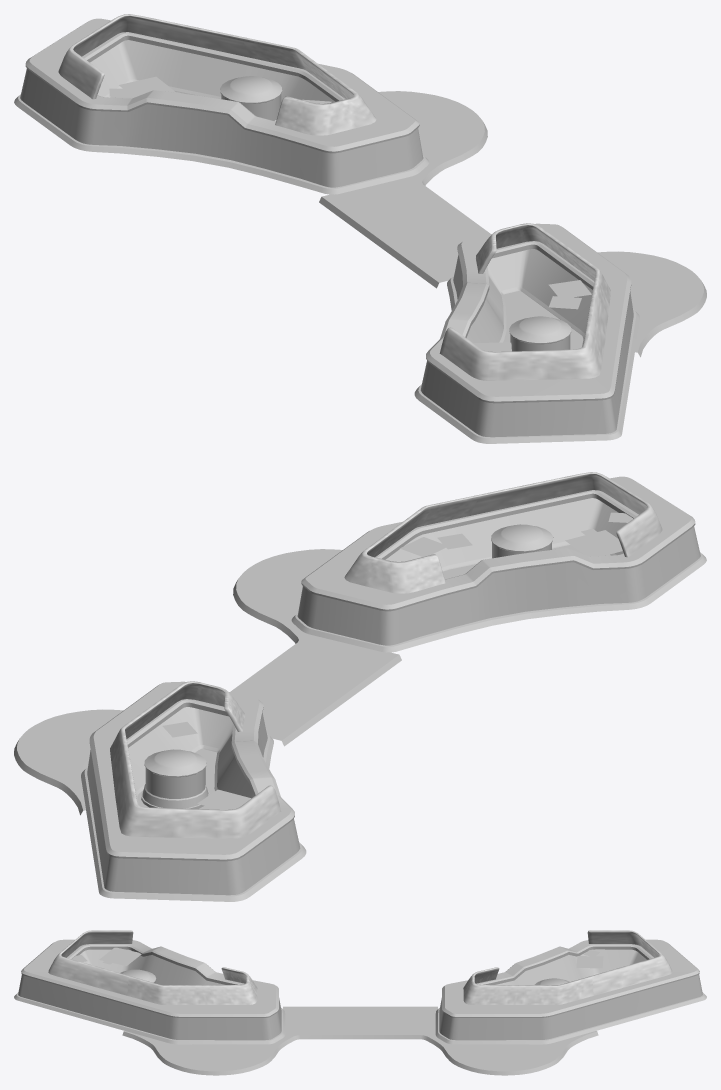
The model's file is pref_sm_beach_techcenter_floor01_lv3.fbx.
3 views of the same model, one above another, from view 1: azimuth 30°, elevation 25°; view 2: azimuth 150°, elevation 25°; view 3: azimuth 270°, elevation 25° (orthographic). The views are drawn at different scales.
Parts seen in each view (by area): view 1: sm_beach_techcenter_floor01a_lv3, sm_beach_techcenter_floor01c_lv3, sm_beach_techcenter_floor01d_lv3; view 2: sm_beach_techcenter_floor01a_lv3, sm_beach_techcenter_floor01c_lv3, sm_beach_techcenter_floor01d_lv3; view 3: sm_beach_techcenter_floor01a_lv3, sm_beach_techcenter_floor01c_lv3, sm_beach_techcenter_floor01d_lv3.
Part boxes in pixels (<box>): sm_beach_techcenter_floor01a_lv3: <box>14,18,706,443</box>; sm_beach_techcenter_floor01c_lv3: <box>58,14,610,380</box>; sm_beach_techcenter_floor01d_lv3: <box>109,76,591,351</box>; sm_beach_techcenter_floor01a_lv3: <box>14,476,706,901</box>; sm_beach_techcenter_floor01c_lv3: <box>110,472,662,838</box>; sm_beach_techcenter_floor01d_lv3: <box>162,512,633,809</box>; sm_beach_techcenter_floor01a_lv3: <box>14,939,706,1075</box>; sm_beach_techcenter_floor01c_lv3: <box>48,930,672,1004</box>; sm_beach_techcenter_floor01d_lv3: <box>72,947,603,968</box>.
Bounding box in the file's own units: 13.03 × 2.54 × 34.89.
